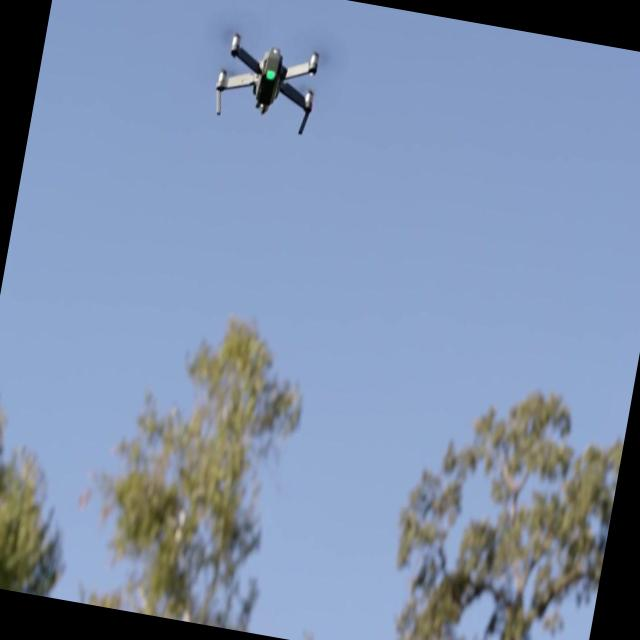drone: (206, 27, 326, 145)
